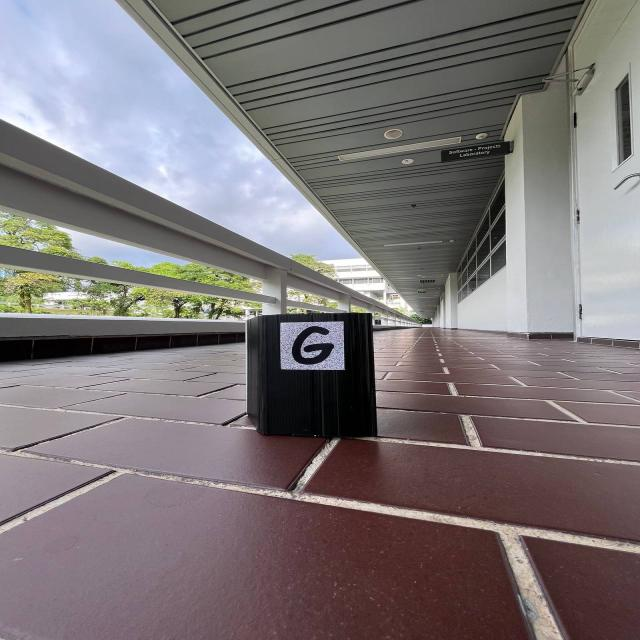G_id26: (281, 322, 345, 370)
